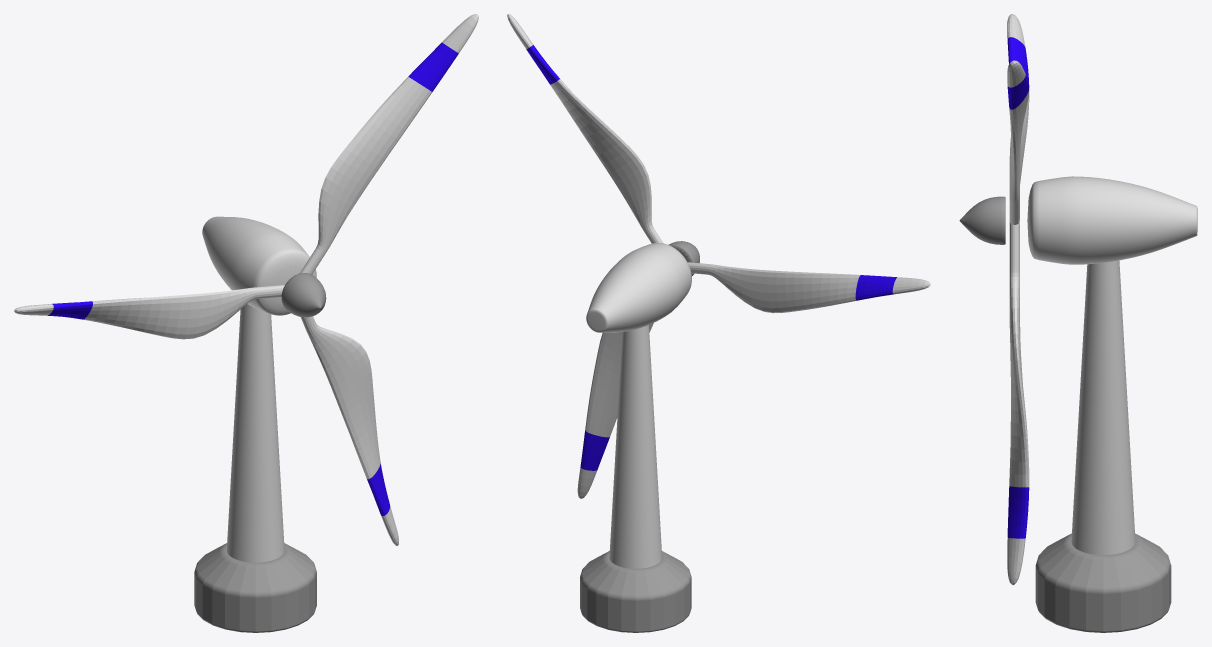
Rendered from windmill_mini.fbx.
The picture shows the model from 3 angles, left to right: view 1: azimuth 30°, elevation 25°; view 2: azimuth 150°, elevation 25°; view 3: azimuth 270°, elevation 25°; orthographic projection. The views are drawn at different scales.
Visible parts, largest first — view 1: Plane.001, Body, Base, Head, Top; view 2: Plane.001, Body, Base, Head; view 3: Body, Head, Base, Plane.001, Top.
Boxes of the visible parts, x1,y1,x2,y2 form: Plane.001: [14, 14, 478, 545]; Body: [226, 304, 284, 562]; Base: [194, 543, 316, 632]; Head: [202, 216, 316, 315]; Top: [281, 273, 326, 317]; Plane.001: [507, 14, 930, 498]; Body: [609, 325, 662, 568]; Base: [580, 551, 691, 632]; Head: [586, 243, 691, 332]; Body: [1071, 260, 1135, 554]; Head: [1027, 176, 1197, 264]; Base: [1035, 533, 1171, 632]; Plane.001: [1007, 14, 1029, 584]; Top: [959, 196, 1005, 244].
Size of the model in its own units: 598 by 714 by 240.
